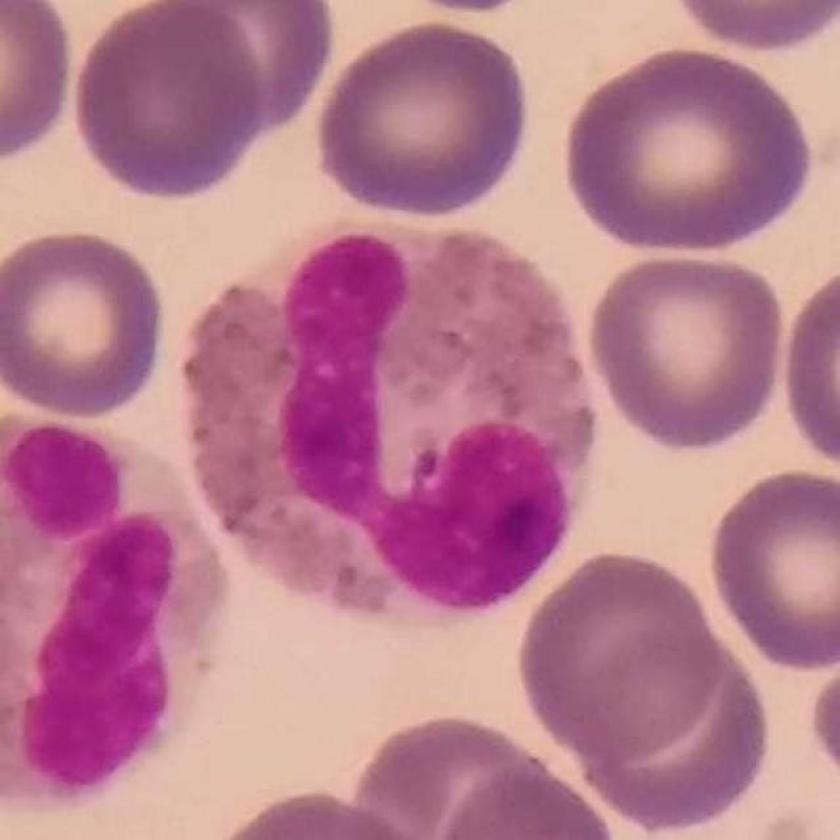eosinophil: (189, 218, 602, 622), (2, 409, 228, 820)
